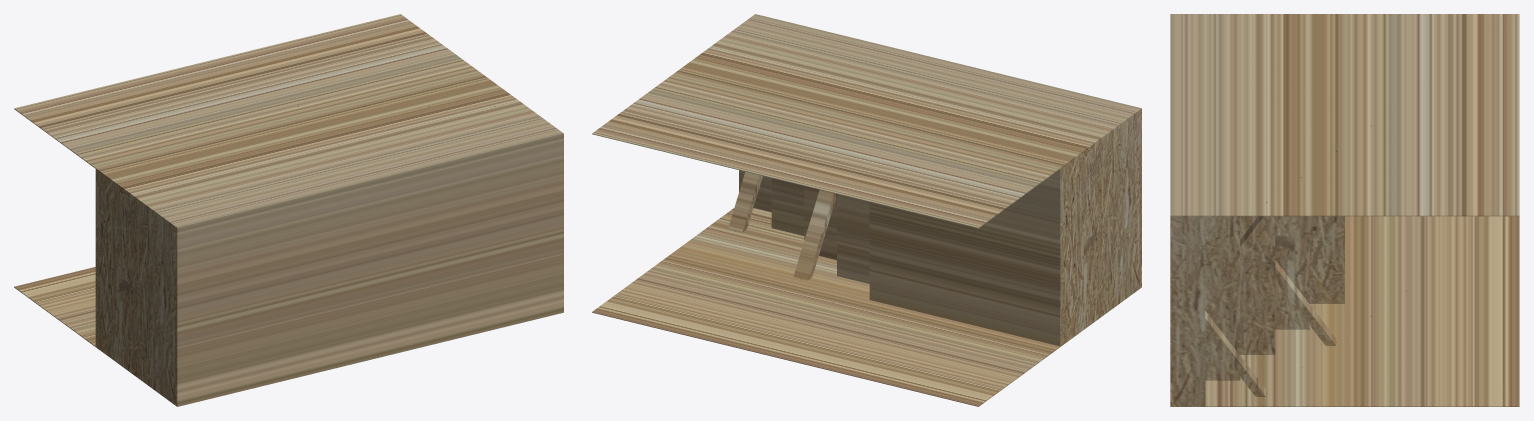
The model's file is Stairs_30deg_4deb.dae.
The picture shows the model from 3 angles, left to right: view 1: azimuth 30°, elevation 25°; view 2: azimuth 150°, elevation 25°; view 3: azimuth 270°, elevation 25°; orthographic projection. The views are drawn at different scales.
Parts seen in each view (by area): view 1: Stairs 30deg 4deb; view 2: Stairs 30deg 4deb; view 3: Stairs 30deg 4deb.
Part boxes in pixels (x1,y1,x2,y2): Stairs 30deg 4deb: (14, 14, 563, 406); Stairs 30deg 4deb: (592, 14, 1141, 406); Stairs 30deg 4deb: (1170, 14, 1519, 406).
Size of the model in its own units: 273 by 200 by 121.
Materials: 1 (1 with a texture image).
